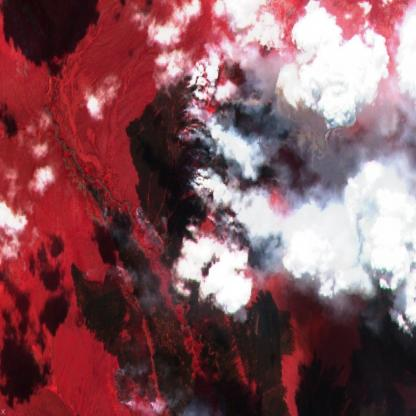fire: (181, 52, 316, 281), (108, 365, 163, 411)
